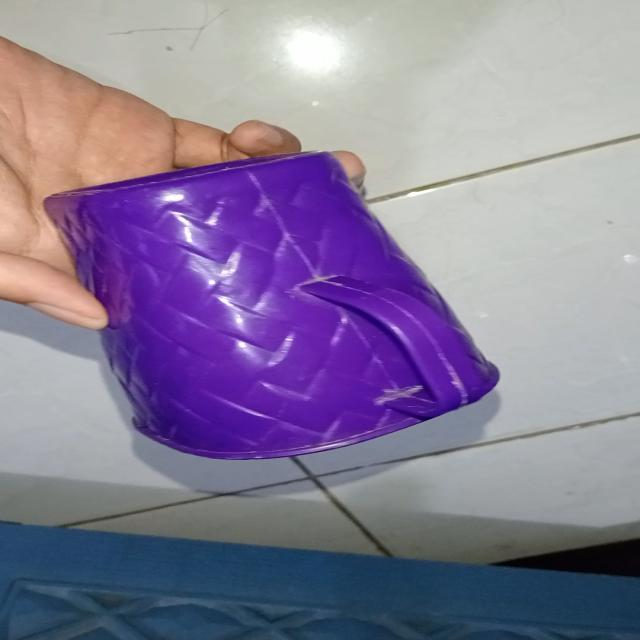gelas bekas: (41, 150, 501, 462)
